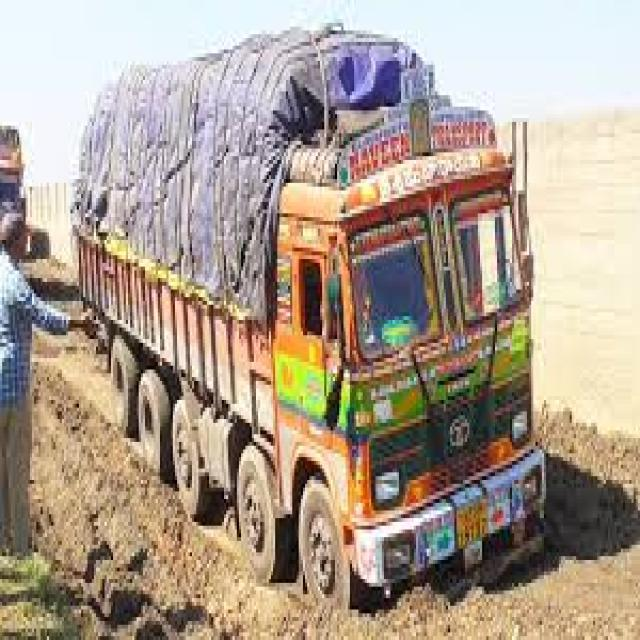covered: (74, 20, 554, 612)
